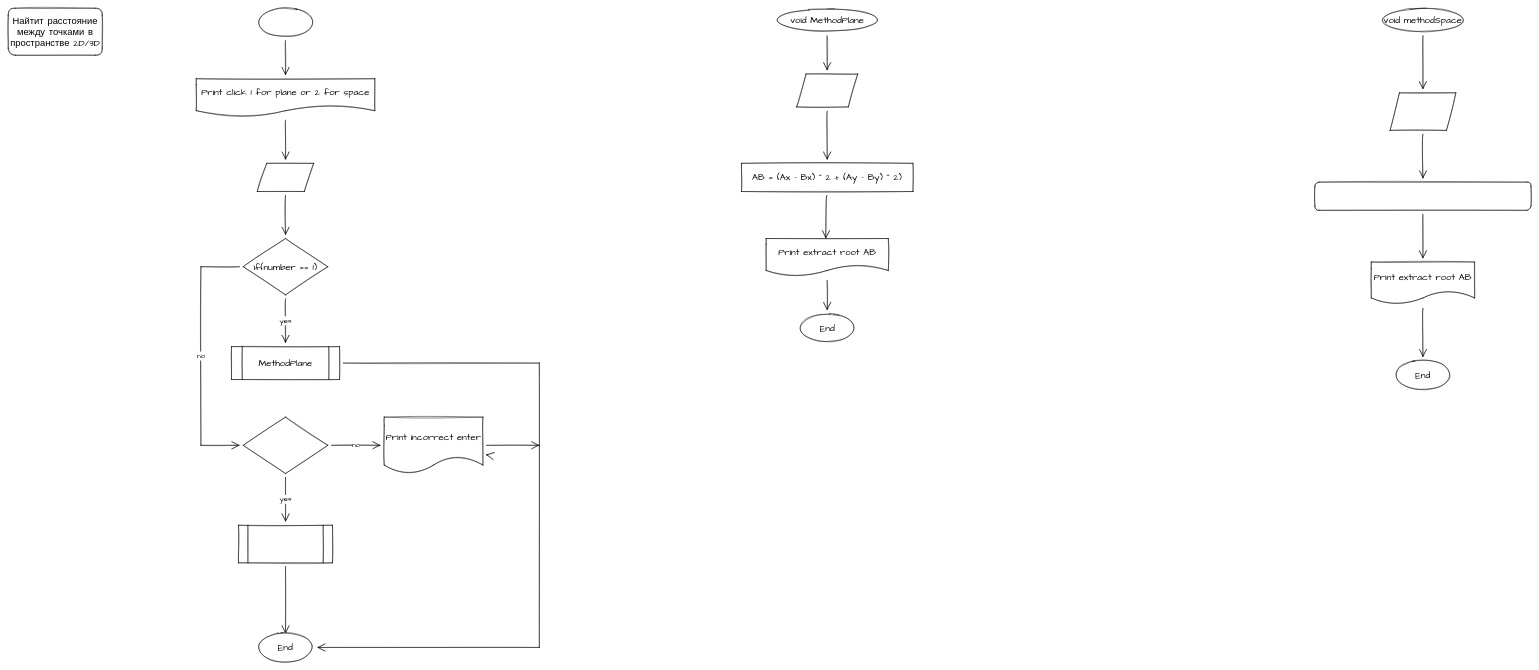
Some shapes in this 1539 by 670 pixel diagram are drawn without their labels. The shapes that lost their labels are listed below. From the top down, each one's centre as x and y in pixels, then its label:
At [285,22]: "Start".
At [827,90]: "Ax, Ay, Bx, By".
At [1423,111]: "Ax, Ay, Az, Bx, By, BZ".
At [285,177]: "number".
At [1422,196]: "AB = (Ax - Bx)^2 + (Ay - By)^2 + (Az - Bz)^2".
At [285,445]: "if(number == 2)".
At [285,544]: "MethodSpace".
